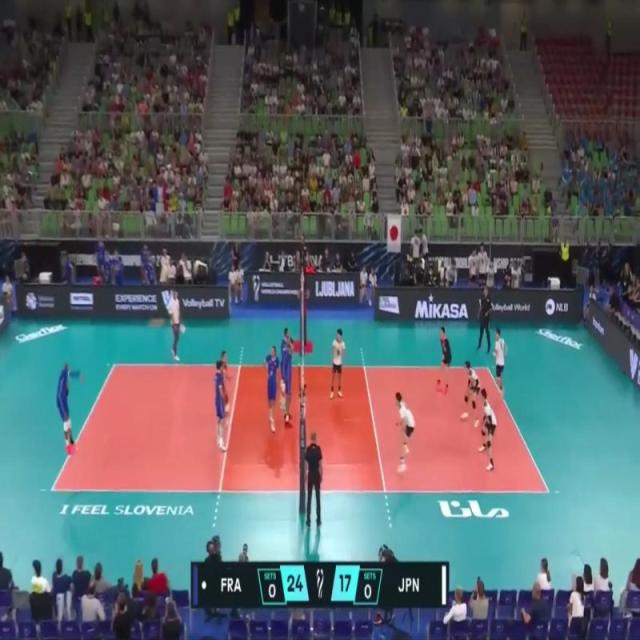volleyball: (148, 317, 164, 331)
